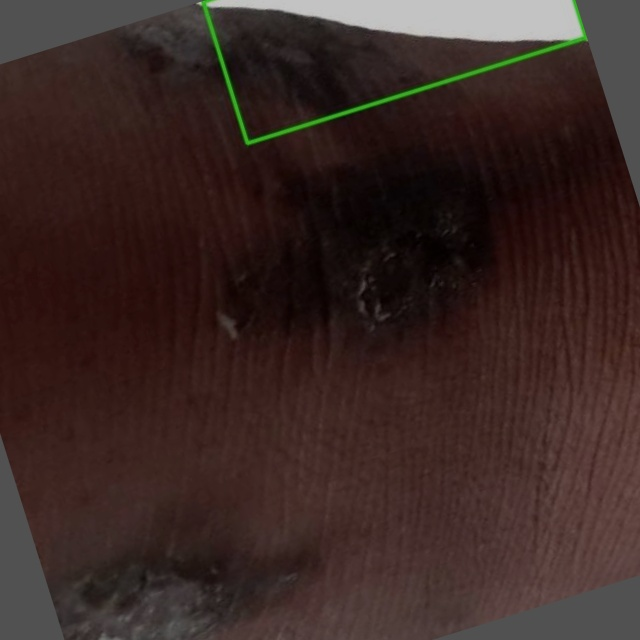Contact Dermatitis: (203, 0, 586, 143)
